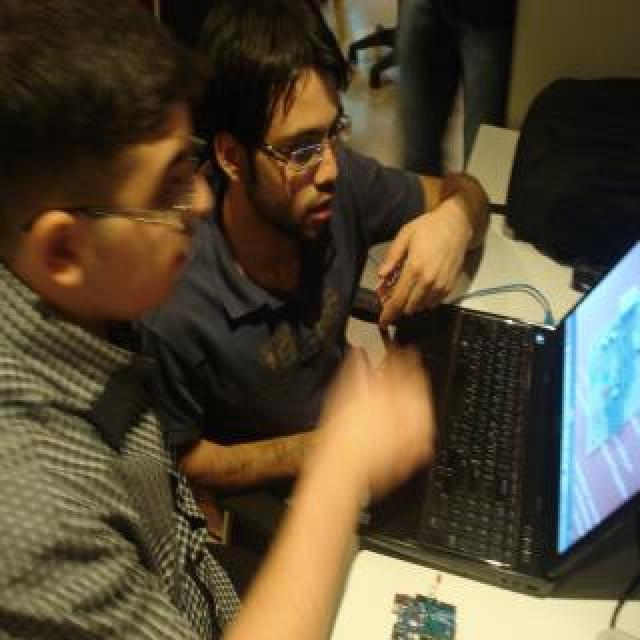laptop_computer: (348, 232, 640, 576)
